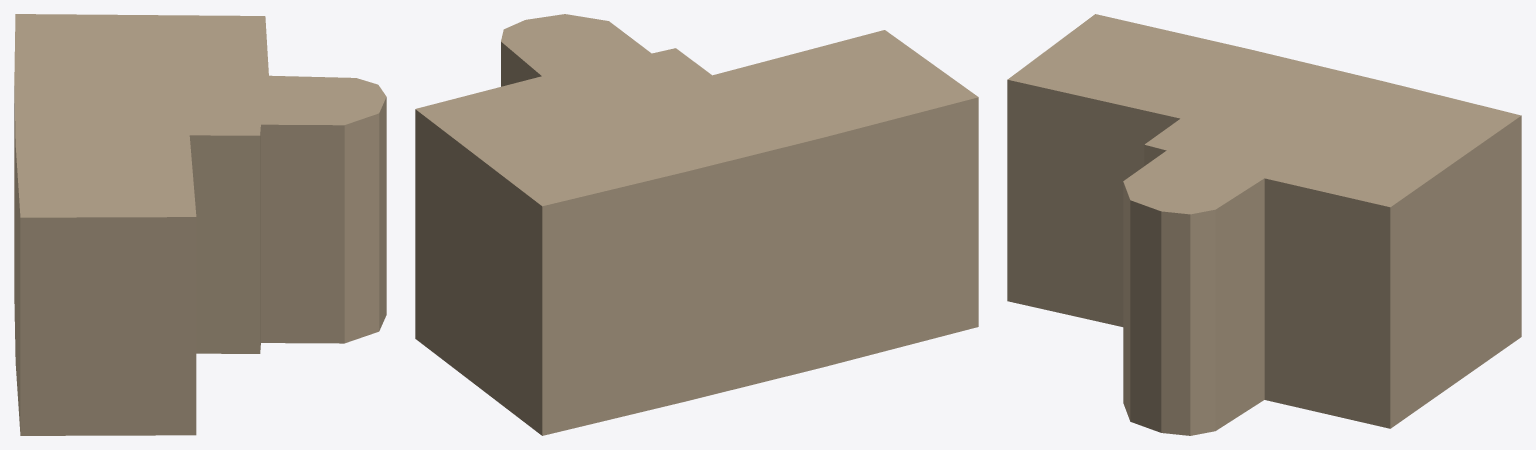
File: bld_99549172.dae
3 renders of one model, left to right at view 1: azimuth 30°, elevation 25°; view 2: azimuth 150°, elevation 25°; view 3: azimuth 270°, elevation 25°, orthographic. The views are drawn at different scales.
Visible parts, largest first — view 1: bld_99549172; view 2: bld_99549172; view 3: bld_99549172.
Boxes of the visible parts, <box> form: bld_99549172: <box>14,14,386,435</box>; bld_99549172: <box>415,14,978,435</box>; bld_99549172: <box>1007,14,1521,435</box>.
Bounding box in the file's own units: 15.52 × 16.83 × 8.
